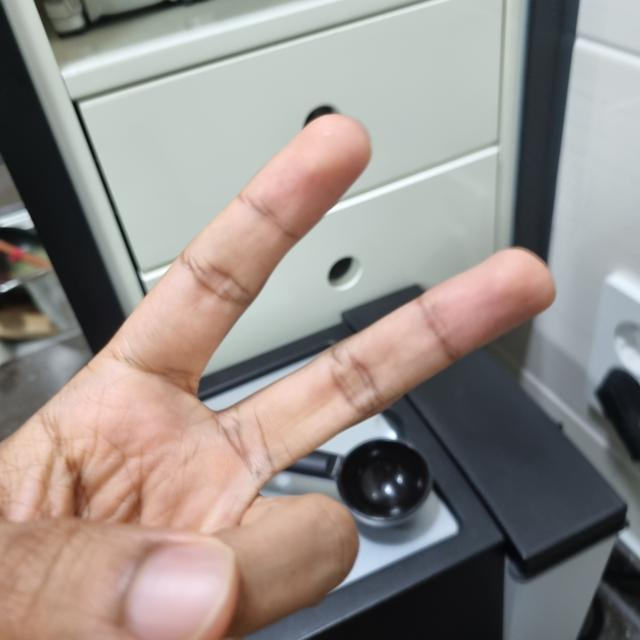Scissors: (0, 118, 552, 638)
